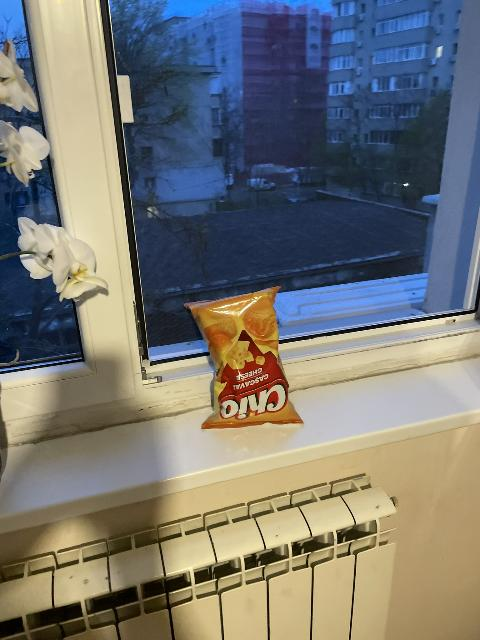Chio Cascaval 125g: (184, 285, 304, 431)
